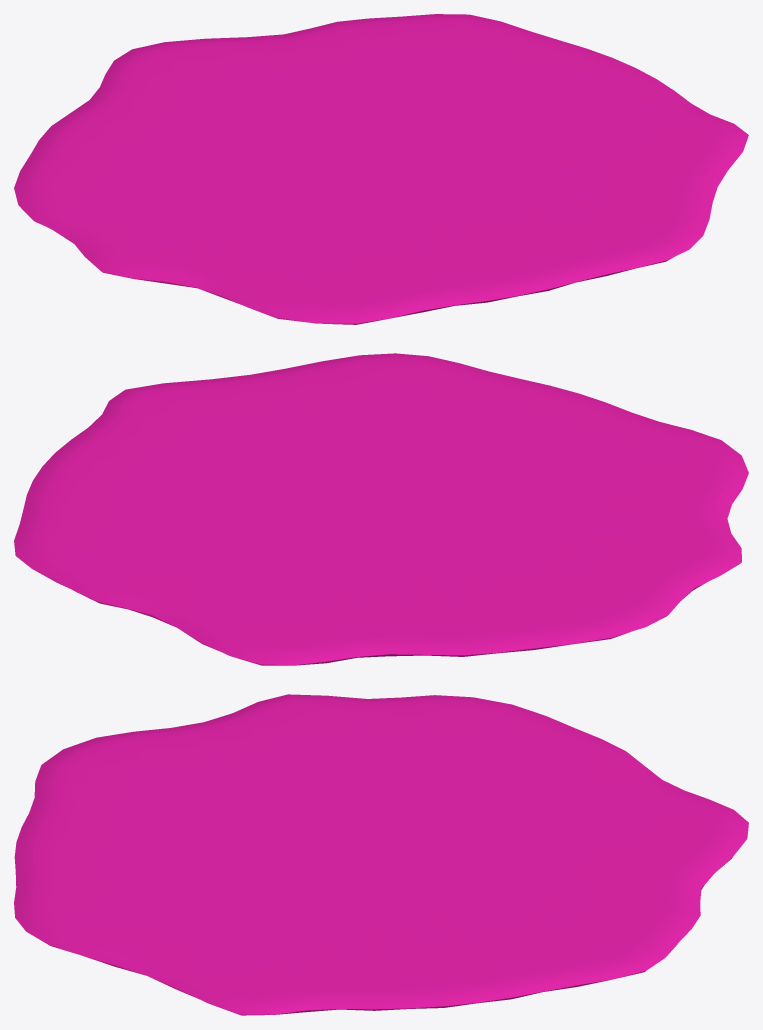
The model's file is fallingStarsPoolSticky.fbx.
3 renders of one model, top to bottom at view 1: azimuth 30°, elevation 25°; view 2: azimuth 150°, elevation 25°; view 3: azimuth 270°, elevation 25°, orthographic. The views are drawn at different scales.
Parts seen in each view (by area): view 1: Cylinder.001; view 2: Cylinder.001; view 3: Cylinder.001.
Boxes of the visible parts, box(x1,y1,x2,y2) form: Cylinder.001: box(14, 14, 748, 324); Cylinder.001: box(14, 353, 748, 665); Cylinder.001: box(14, 694, 748, 1015).
Size of the model in its own units: 860 by 12.79 by 833.
